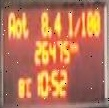-: (47, 25, 51, 37)
0: (40, 69, 48, 97), (93, 9, 100, 35), (85, 9, 92, 35)
1: (80, 9, 85, 37), (36, 71, 40, 96)
2: (58, 67, 67, 96), (33, 39, 40, 64)
4: (52, 9, 61, 35), (48, 39, 55, 62)
5: (50, 67, 58, 96), (62, 39, 68, 62)
6: (41, 39, 48, 62)
7: (55, 39, 62, 60)
8: (39, 9, 48, 35), (17, 75, 24, 98)
X: (7, 9, 15, 39), (21, 9, 29, 39), (66, 9, 72, 37), (24, 75, 31, 98), (14, 16, 21, 37), (73, 14, 80, 35), (73, 39, 78, 53), (47, 73, 50, 91), (69, 37, 72, 53)
